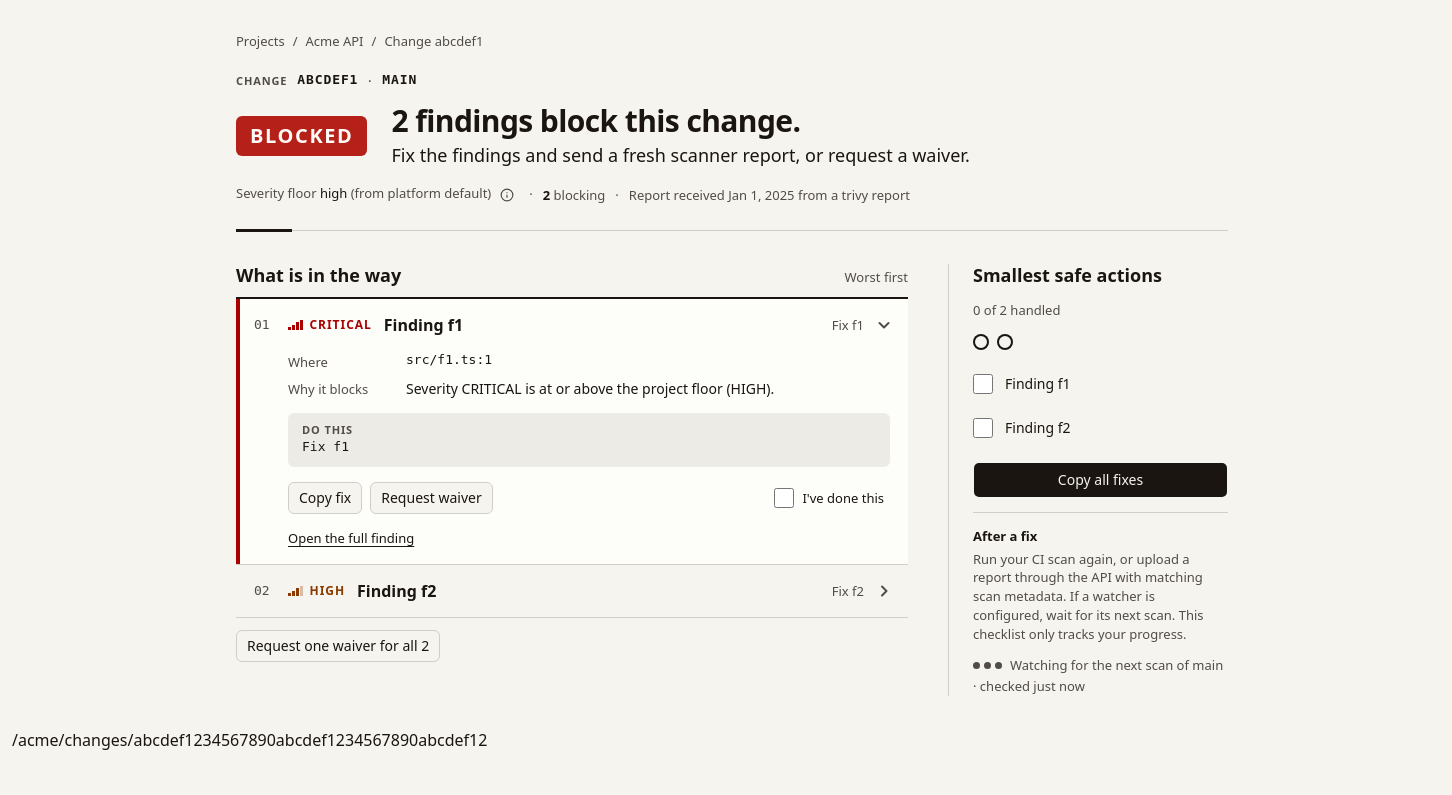
Test case: ChangeView › keeps the margin checklist and the ledger in step
Click the checkbox labelled "Finding f2" at (983,428), box x1=973 y1=418 x2=993 y2=438
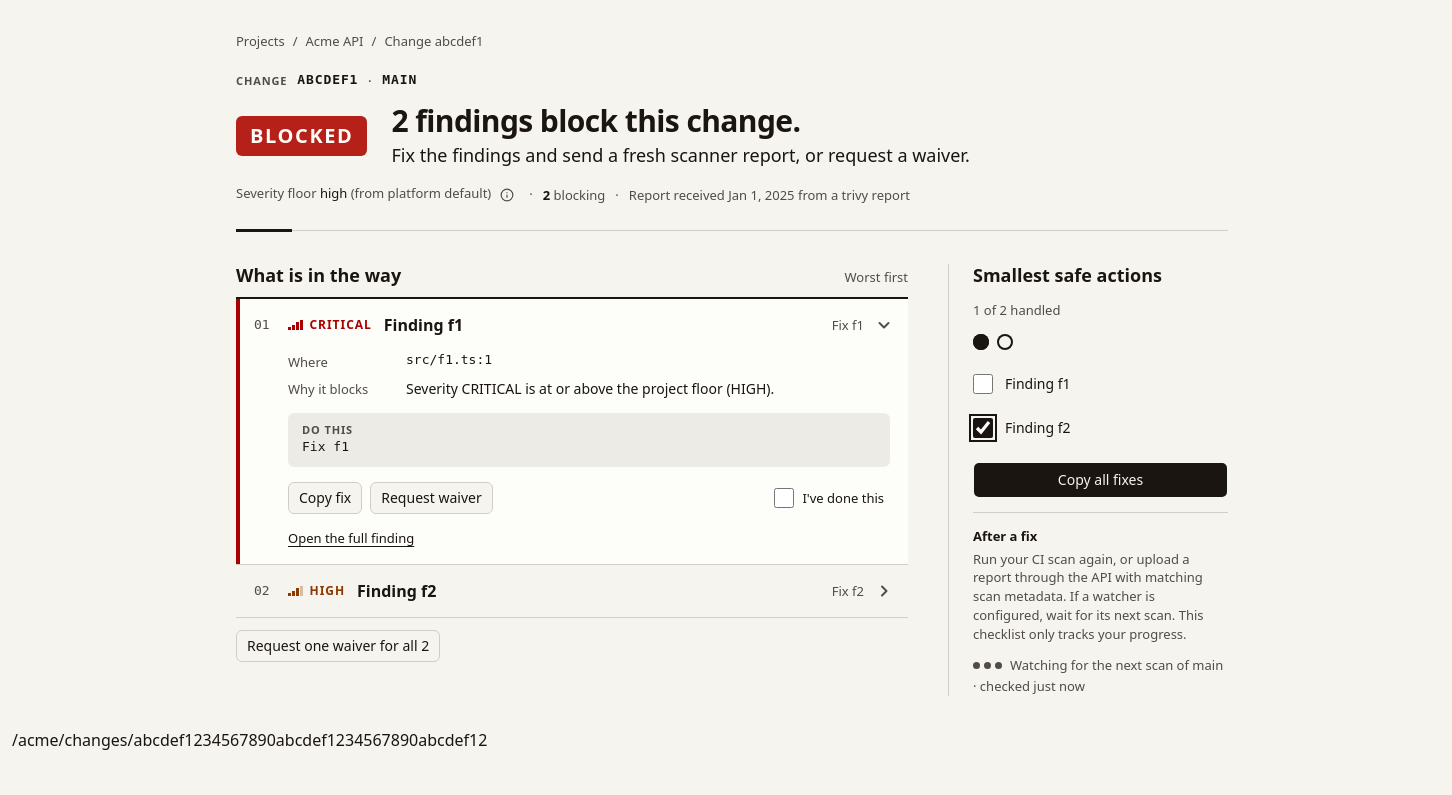
Result: the text "1 of 2 handled" is shown at x1=973 y1=301 x2=1060 y2=319
